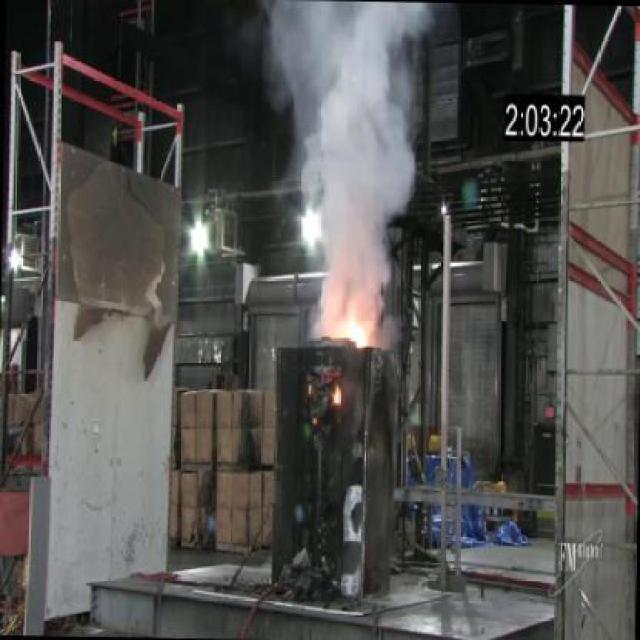fire: (276, 2, 436, 286)
smoke: (322, 299, 375, 353)
